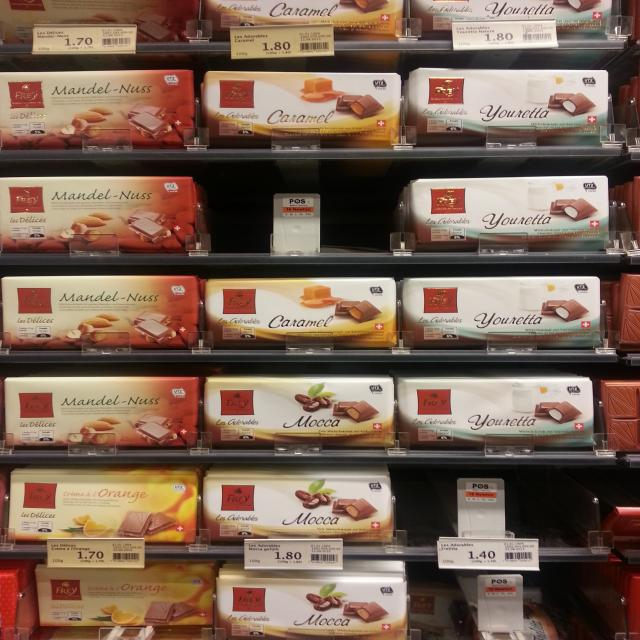chocolate: (401, 173, 618, 255), (192, 72, 402, 154), (0, 70, 200, 154), (404, 275, 606, 357), (4, 174, 213, 252), (404, 68, 608, 146), (398, 370, 595, 450), (0, 463, 197, 543), (208, 268, 394, 352), (207, 373, 399, 451), (0, 275, 197, 351), (0, 377, 195, 453), (218, 565, 406, 640), (202, 464, 404, 532), (212, 0, 422, 63), (27, 552, 218, 620), (403, 0, 628, 55), (3, 0, 224, 55)
